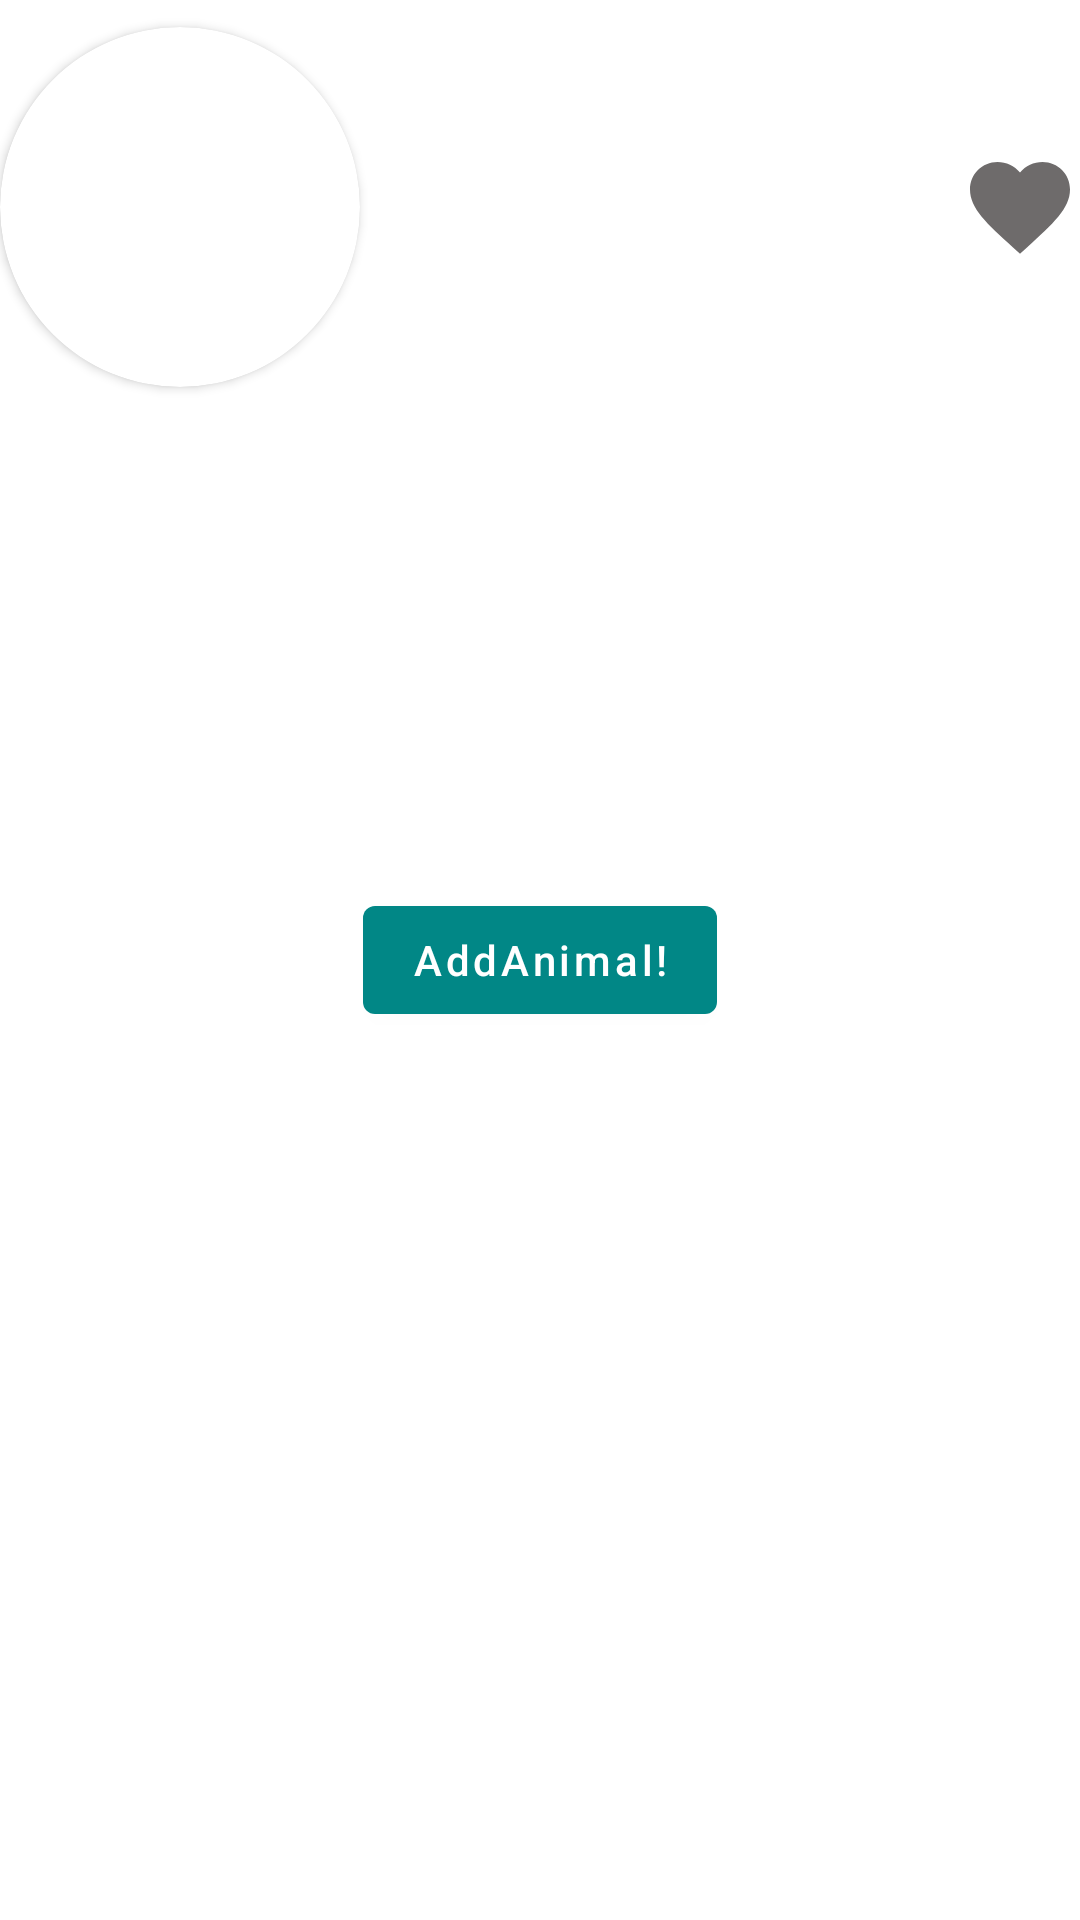

Named icons in this screenshot (1080x1920) and their bounding boxes, bbox(x1, y1, x2, y2):
greey like: bbox(970, 162, 1070, 254)
